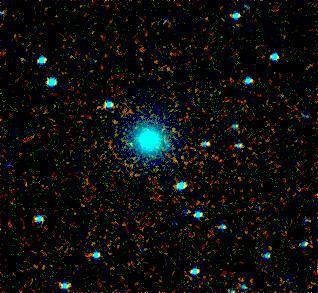star: (105, 128, 135, 158)
